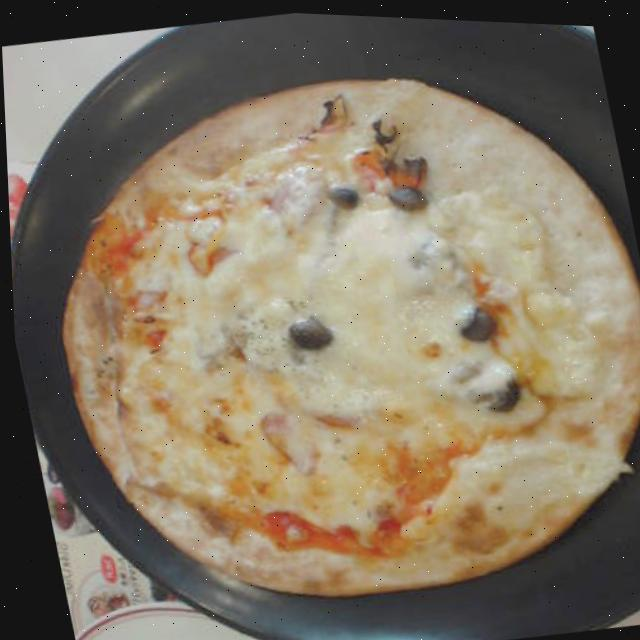汉堡快餐: (19, 20, 640, 619)
